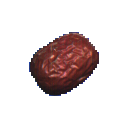gd: (16, 23, 118, 110)
